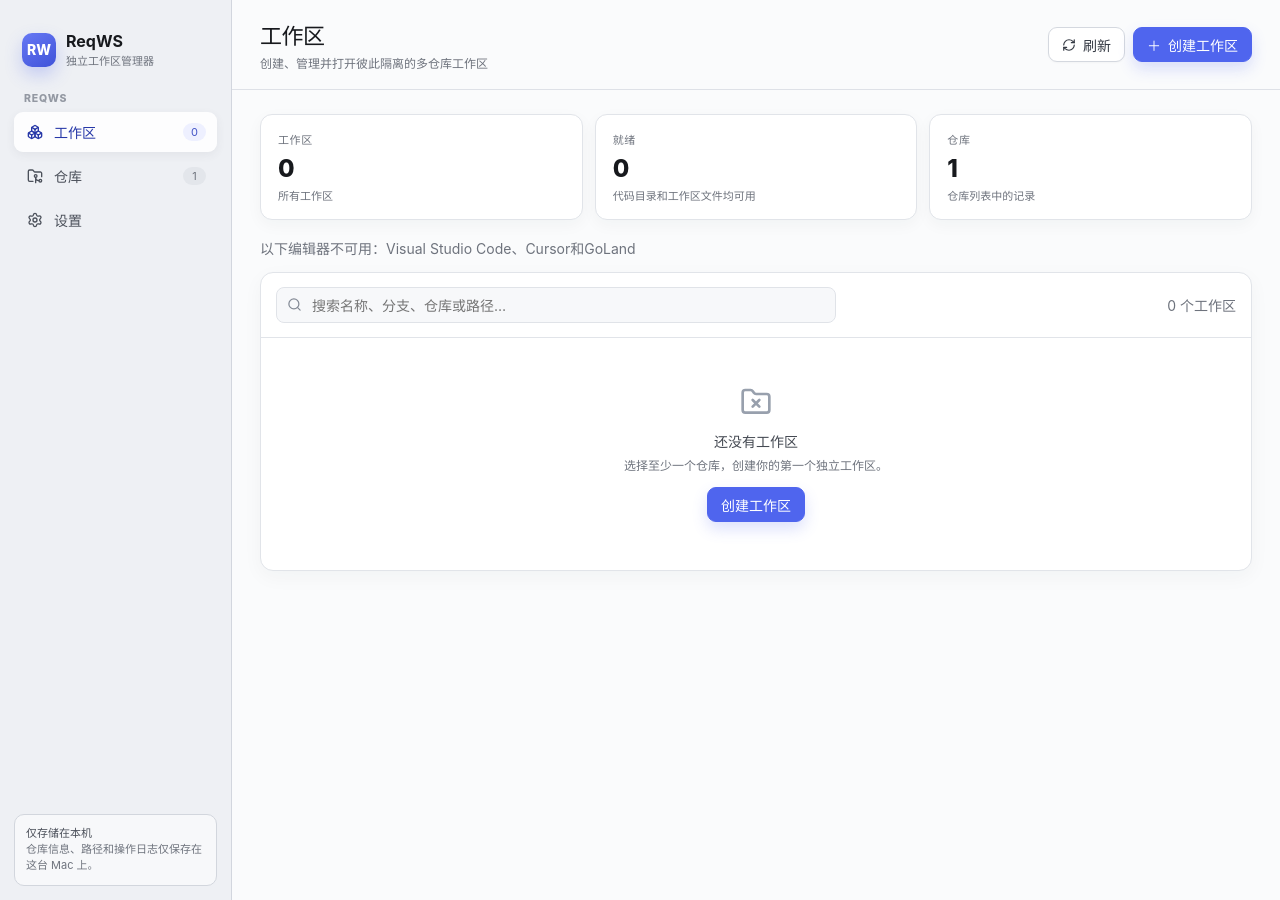
Test: App refresh ordering › ignores an obsolete refresh success after repository removal
This screenshot has width=1280, height=900.
What coordinates should you click on to do the following:
click the button "仓库 1"
I would click on:
 (116, 176)
Its box is [14,156,217,196].
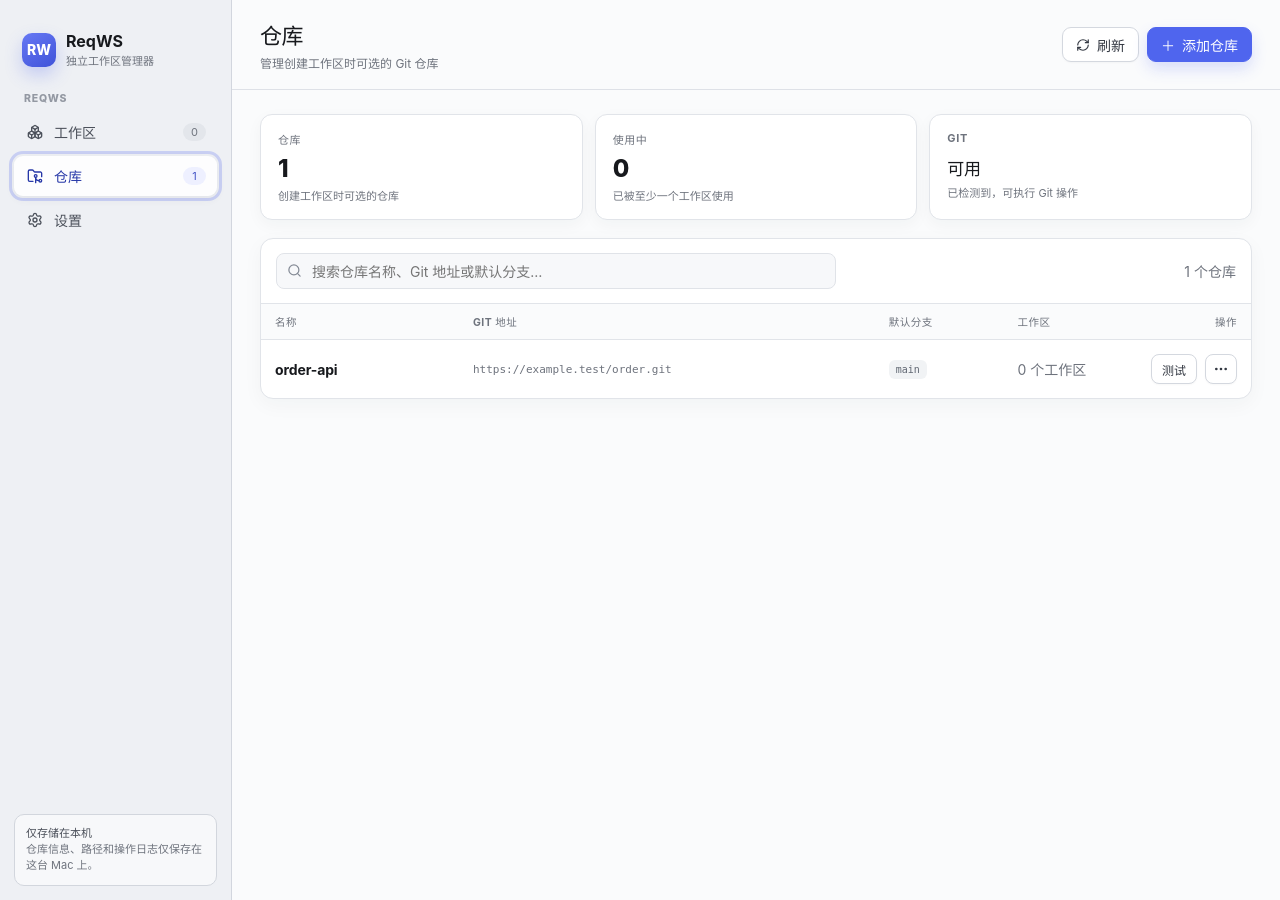
expect the text "order-api" is shown: met, box [275,360,338,378]
What coordinates should you click on to do the following:
click the button "刷新"
I would click on:
 (1100, 44)
Its box is [1062,27,1139,62].
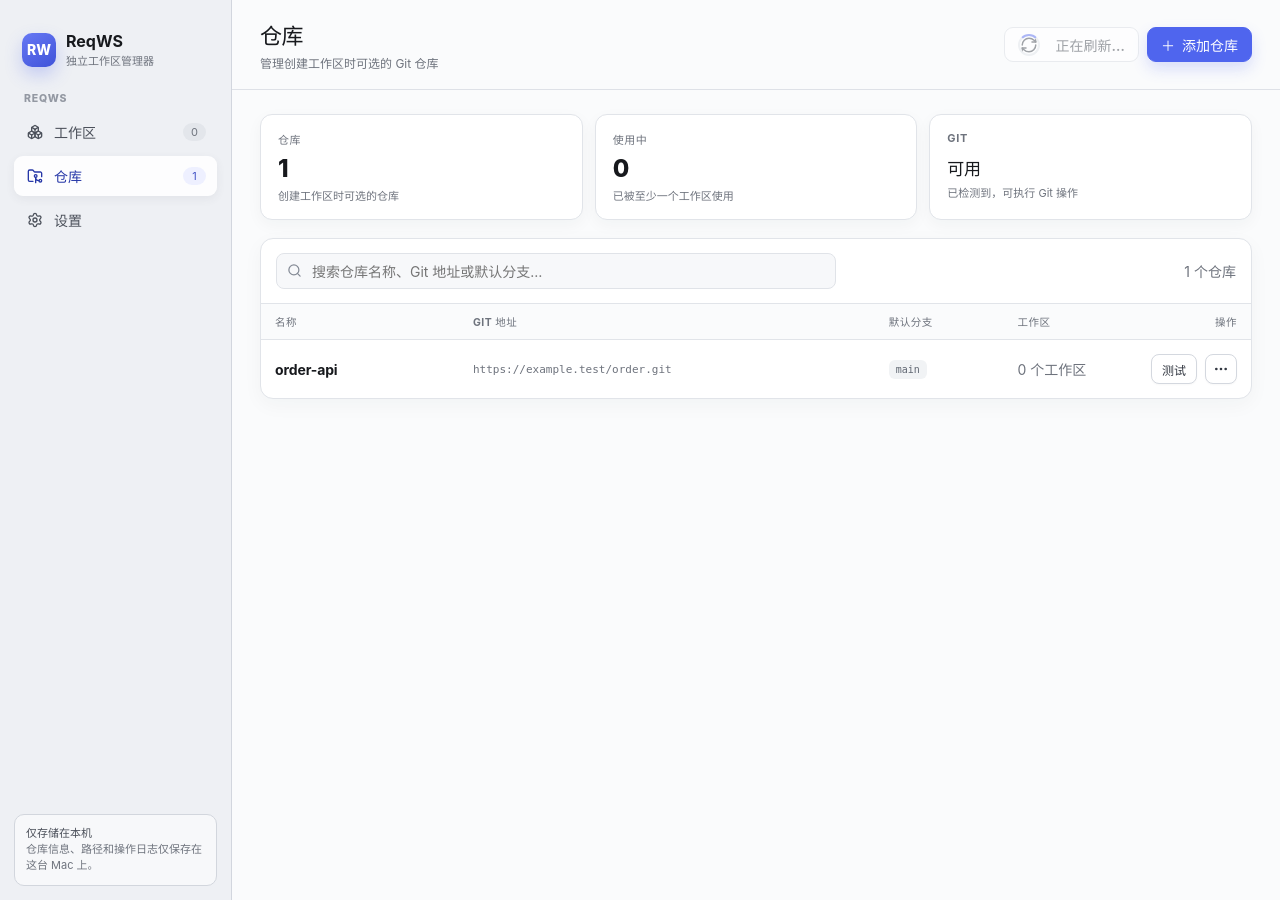
What coordinates should you click on to do the following:
click the button named "编辑 order-api"
I would click on:
 (1221, 369)
Its box is [1205,354,1237,384].
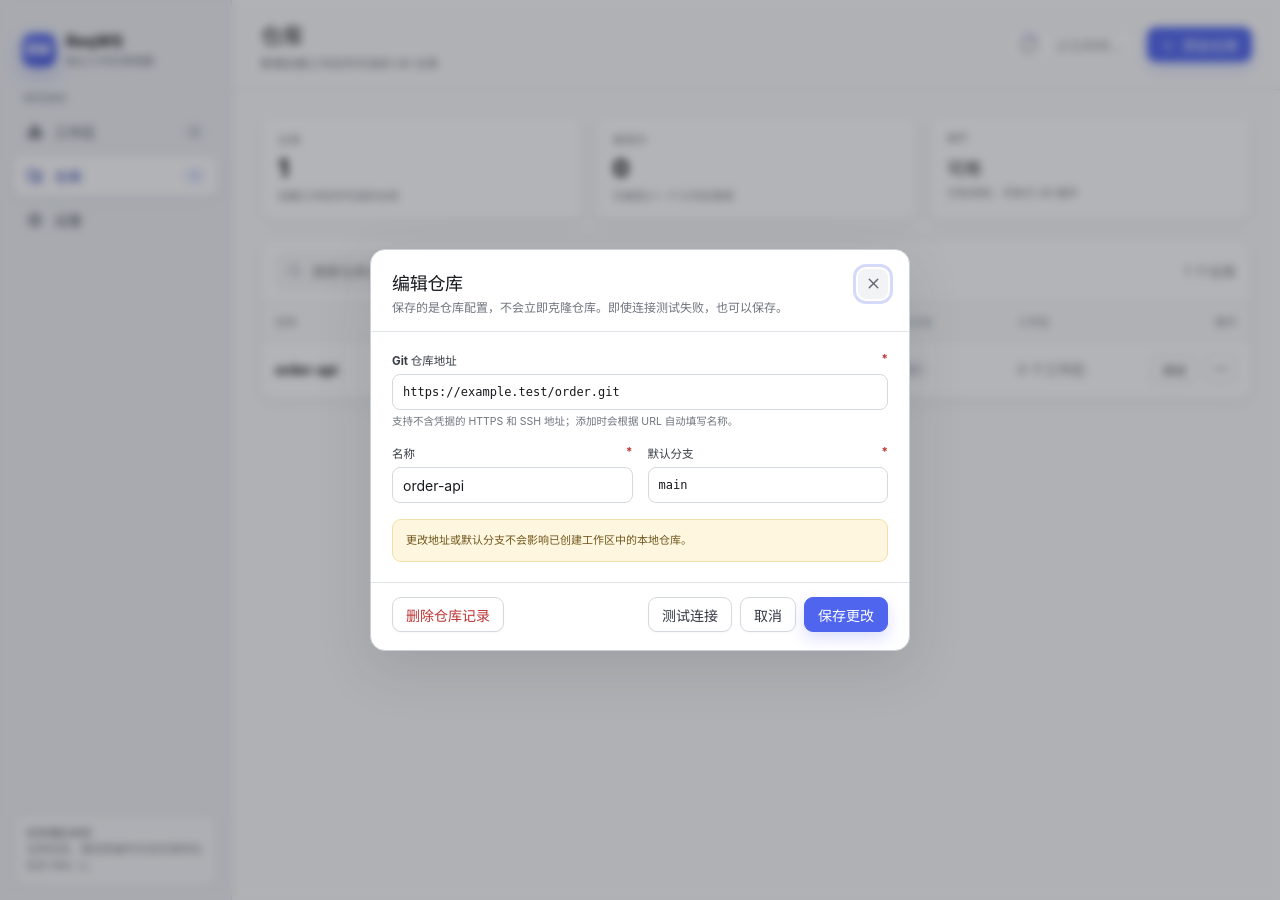
What coordinates should you click on to do the following:
click the button "删除仓库记录"
I would click on:
 (448, 615)
Its box is [392,597,504,632].
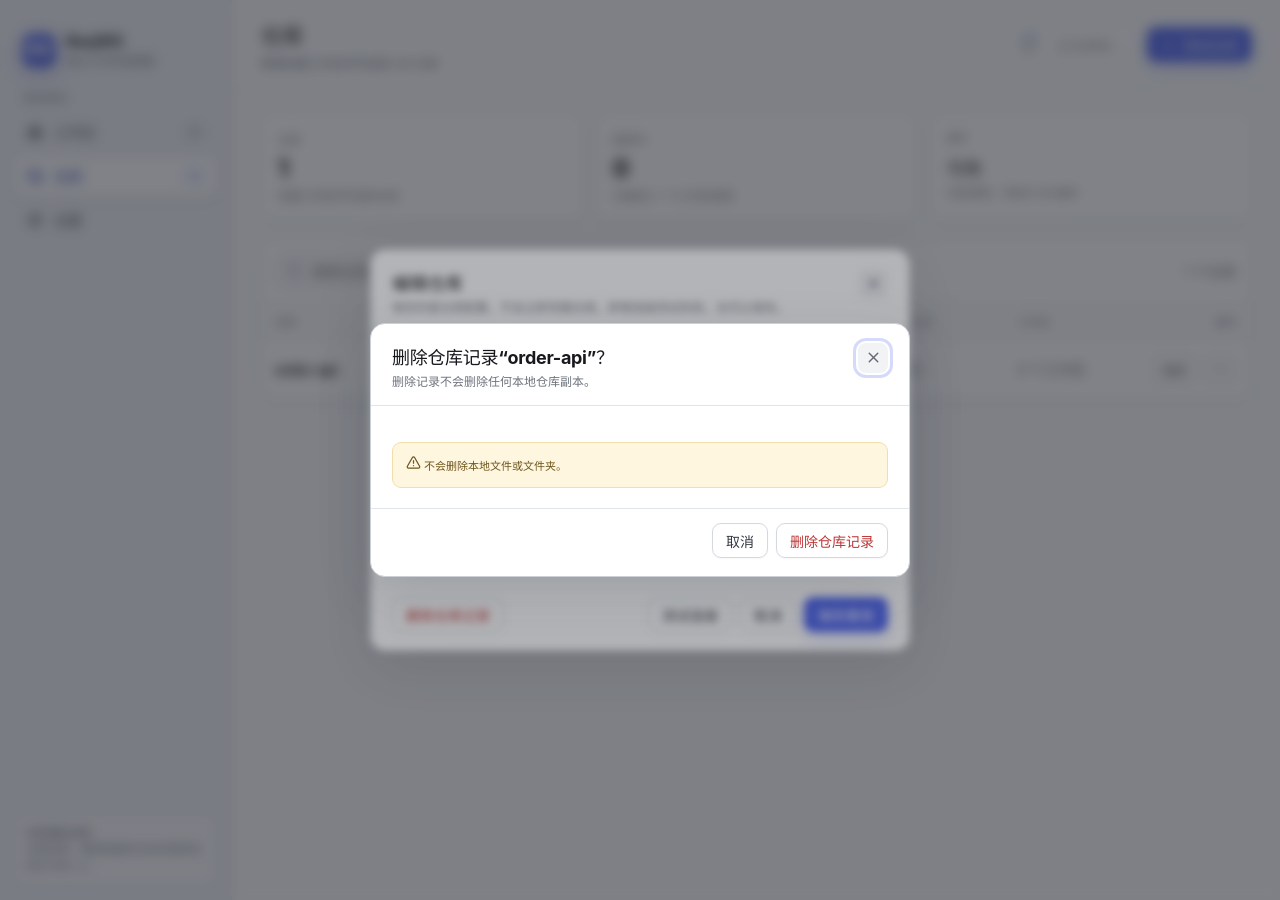
What coordinates should you click on to do the following:
click the button "删除仓库记录"
I would click on:
 (832, 541)
Its box is [776,523,888,558].
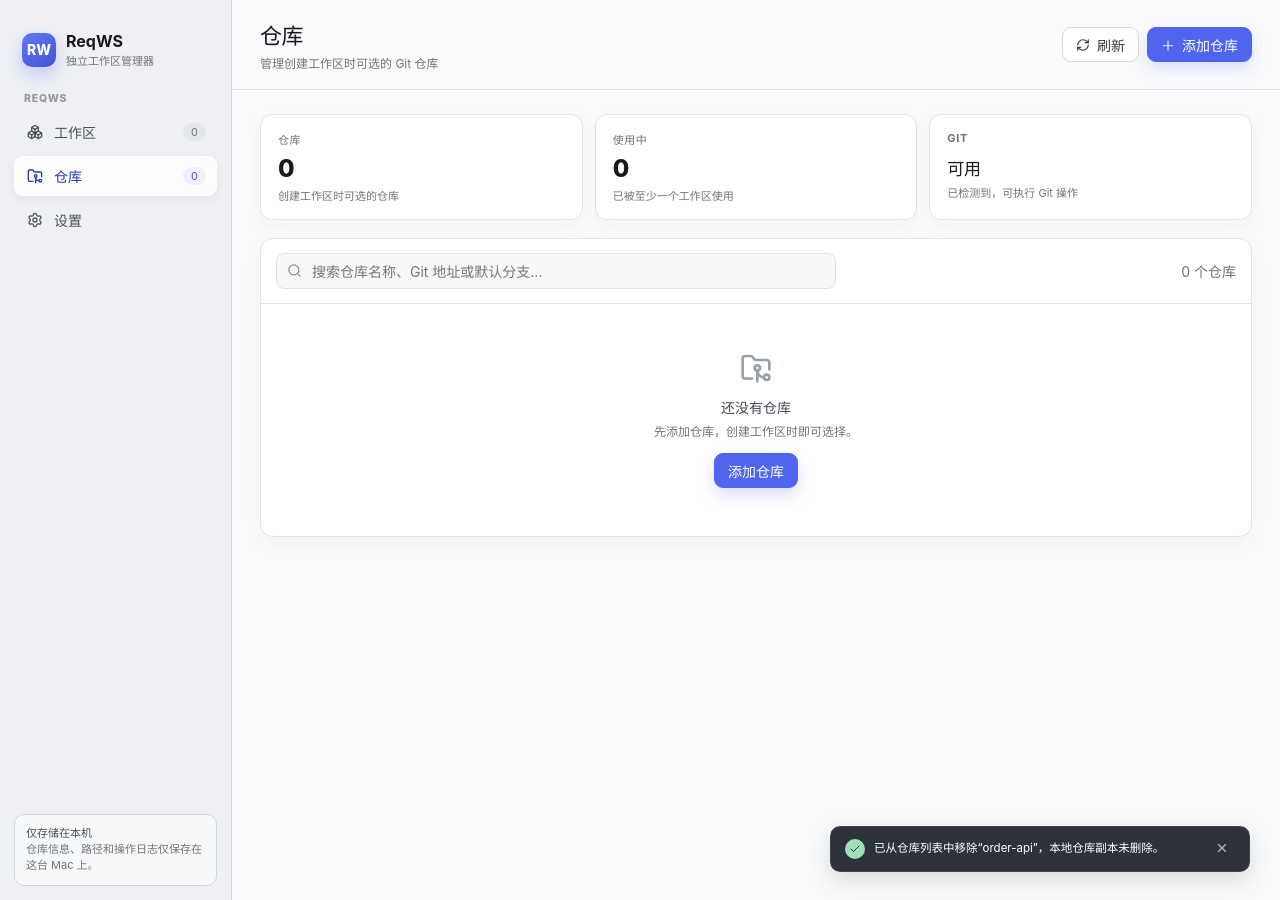
expect the button "刷新" is enabled: met, box [1062,27,1139,62]
